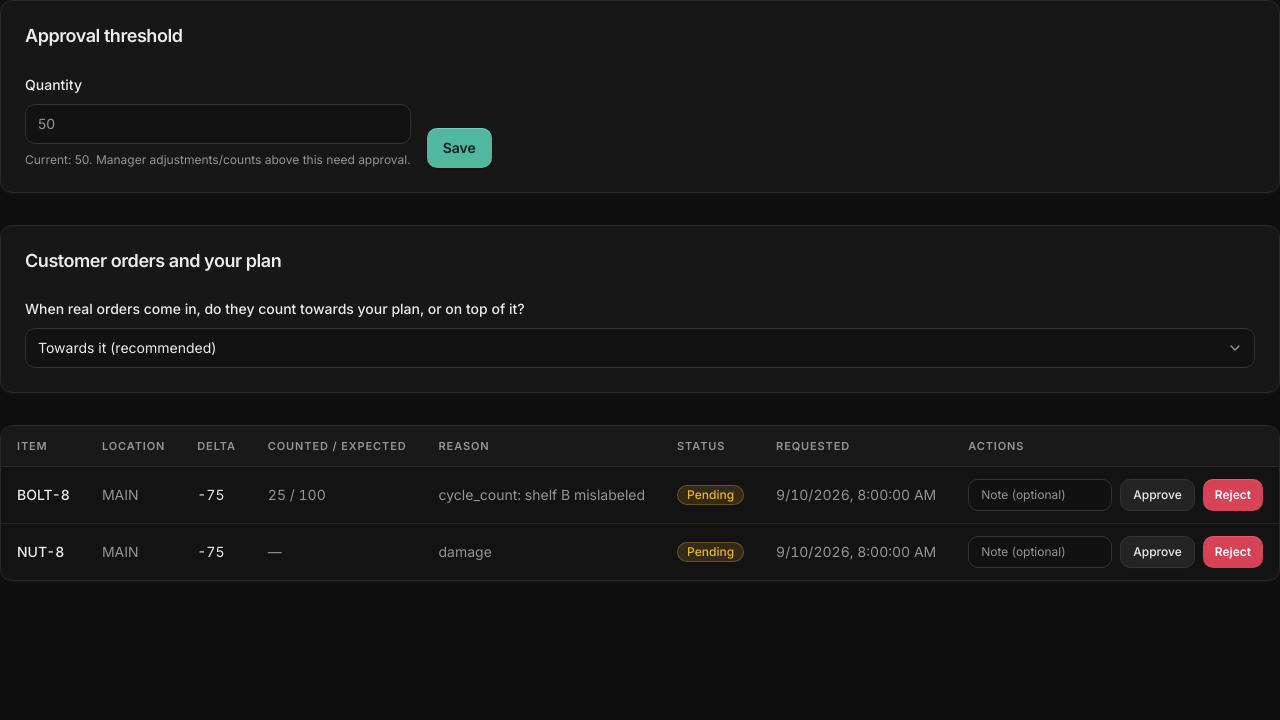
it: ApprovalsPanel › shows a threshold error
Type "1" into the number field labelled "Quantity".
click(218, 124); type("1")  # box left=25, top=104, right=411, bottom=144
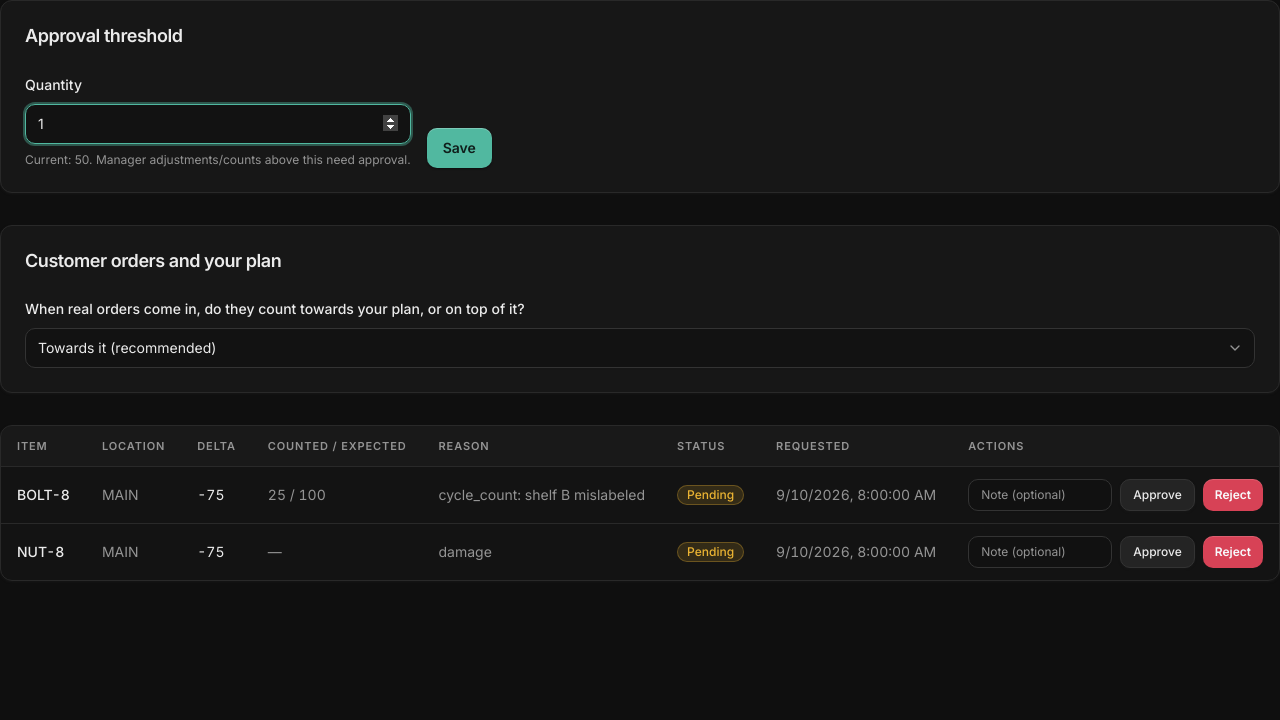
Click the button "Save".
click(459, 148)  # box left=427, top=128, right=492, bottom=168
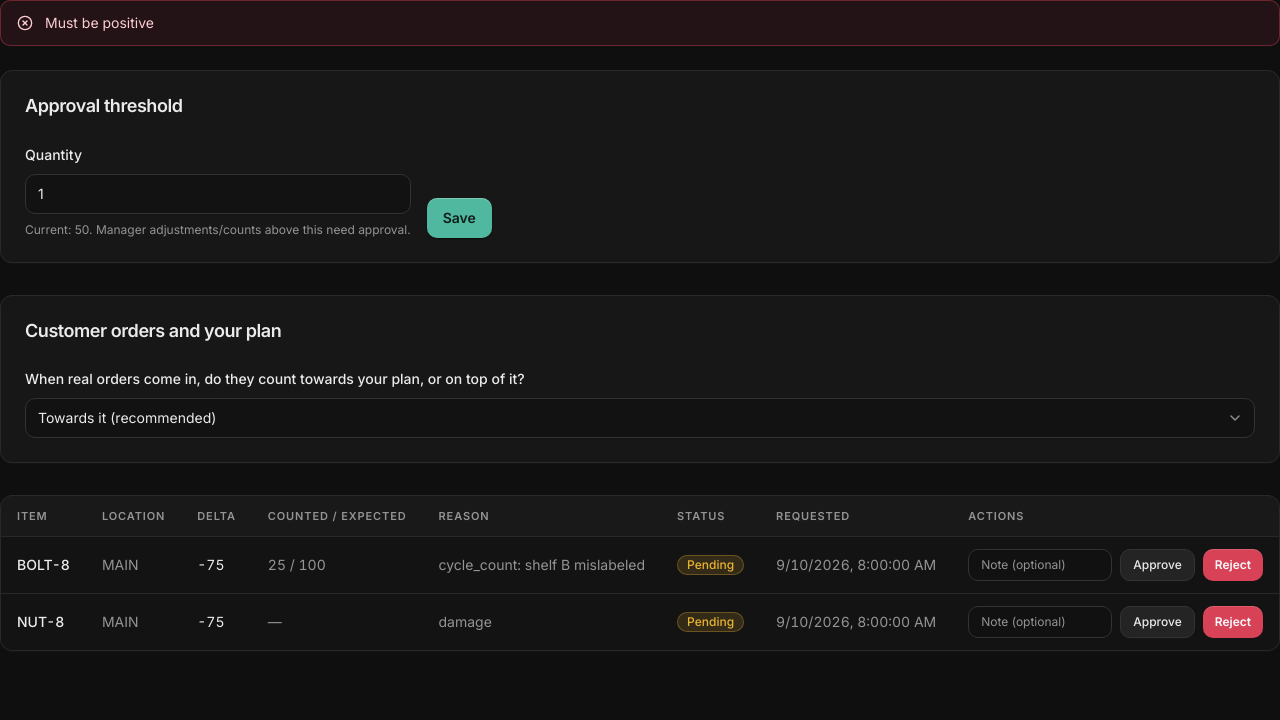
Now the text "Must be positive" is shown, box left=45, top=13, right=154, bottom=33
